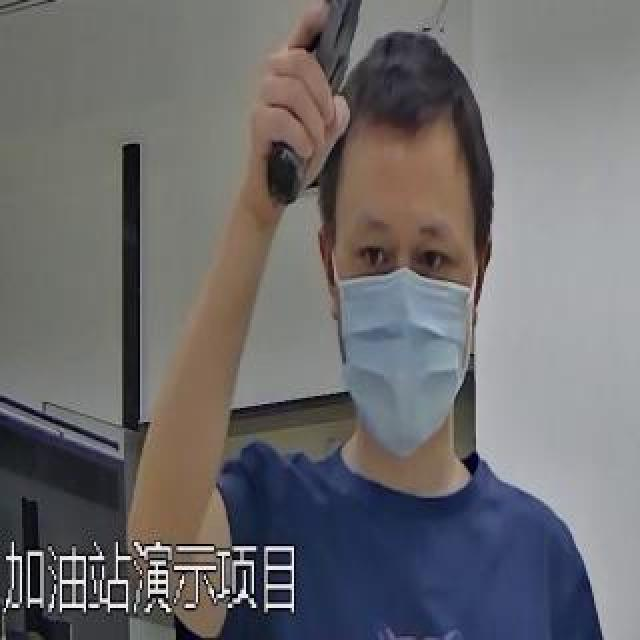Guns: (232, 0, 430, 236)
